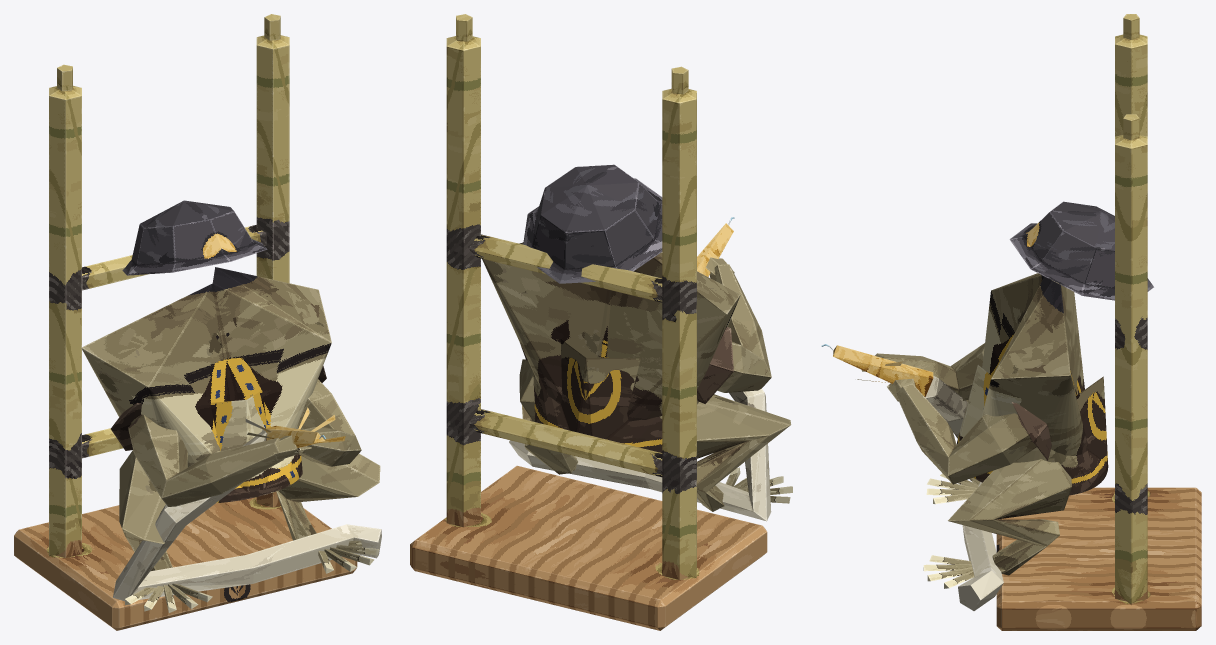
The model's file is kashira.glb.
3 renders of one model, left to right at view 1: azimuth 30°, elevation 25°; view 2: azimuth 150°, elevation 25°; view 3: azimuth 270°, elevation 25°, orthographic. The views are drawn at different scales.
Visible parts, largest first — view 1: ladder, body, nozzle, arm_r, leg_l, leg_r, arm_l; view 2: ladder, body, leg_r, nozzle, arm_r, leg_l; view 3: ladder, body, leg_l, arm_l, nozzle, arm_r, leg_r.
Boxes of the visible parts, left/top/right/bottom form: ladder: left=14, top=14, right=357, bottom=630; body: left=81, top=200, right=331, bottom=502; nozzle: left=113, top=425, right=381, bottom=601; arm_r: left=111, top=403, right=345, bottom=506; leg_l: left=276, top=453, right=380, bottom=573; leg_r: left=119, top=450, right=212, bottom=612; arm_l: left=245, top=366, right=361, bottom=466; ladder: left=410, top=14, right=767, bottom=630; body: left=482, top=164, right=740, bottom=452; leg_r: left=697, top=394, right=792, bottom=511; nozzle: left=509, top=223, right=771, bottom=521; arm_r: left=697, top=257, right=771, bottom=403; leg_l: left=519, top=359, right=577, bottom=474; ladder: left=996, top=14, right=1201, bottom=630; body: left=956, top=201, right=1153, bottom=495; leg_l: left=923, top=459, right=1071, bottom=588; arm_l: left=857, top=378, right=1051, bottom=484; nozzle: left=833, top=345, right=1003, bottom=610; arm_r: left=861, top=343, right=984, bottom=400; leg_r: left=926, top=400, right=979, bottom=504.
Size of the model in its own units: 28.16 by 51.8 by 35.22.
Materials: 1 (1 with a texture image).
